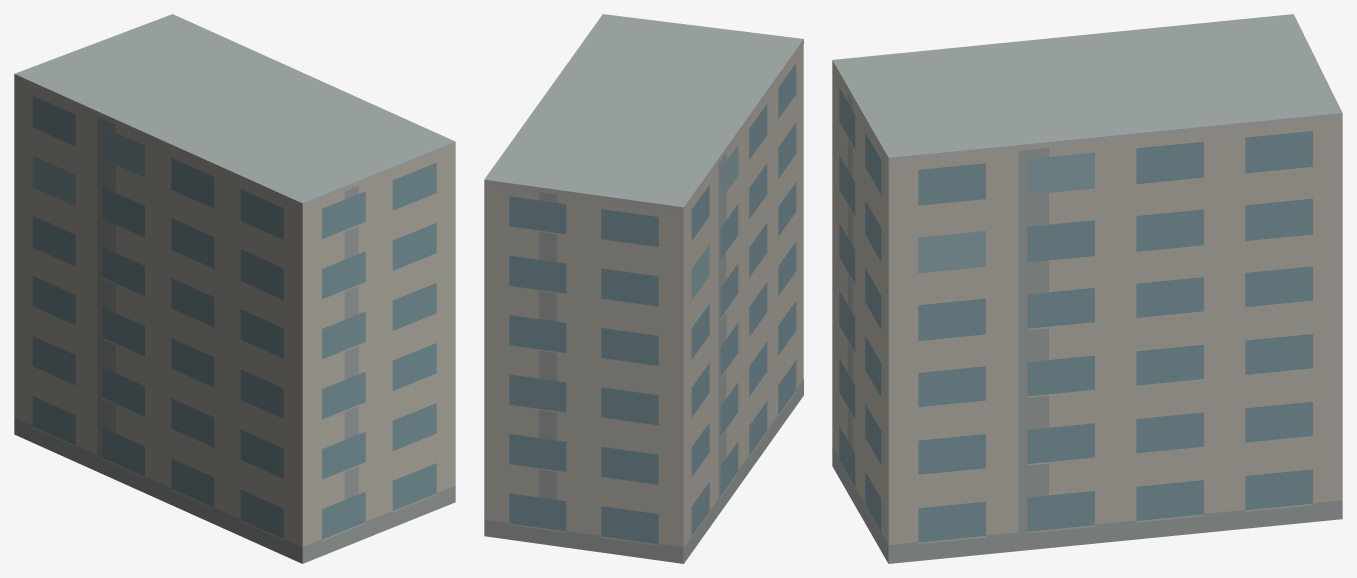
File: survey-upis-32996198.glb
3 renders of one model, left to right at view 1: azimuth 30°, elevation 25°; view 2: azimuth 150°, elevation 25°; view 3: azimuth 270°, elevation 25°, orthographic. The views are drawn at different scales.
Parts seen in each view (by area): view 1: survey-upis-32996198.tmp; view 2: survey-upis-32996198.tmp; view 3: survey-upis-32996198.tmp.
Part boxes in pixels (left/top/right/bottom): survey-upis-32996198.tmp: left=14, top=14, right=455, bottom=563; survey-upis-32996198.tmp: left=484, top=14, right=803, bottom=563; survey-upis-32996198.tmp: left=832, top=14, right=1342, bottom=563.
Size of the model in its own units: 13.15 by 17.3 by 19.71.
